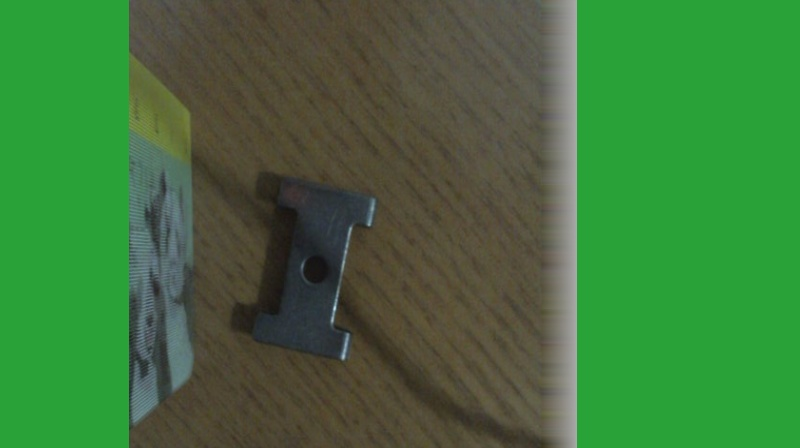O002: (247, 175, 377, 366)
